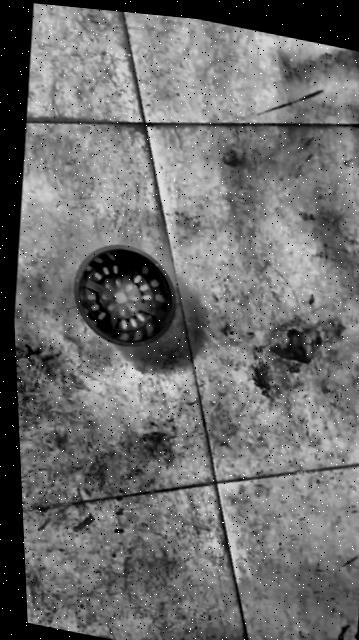pot: (65, 236, 183, 355)
